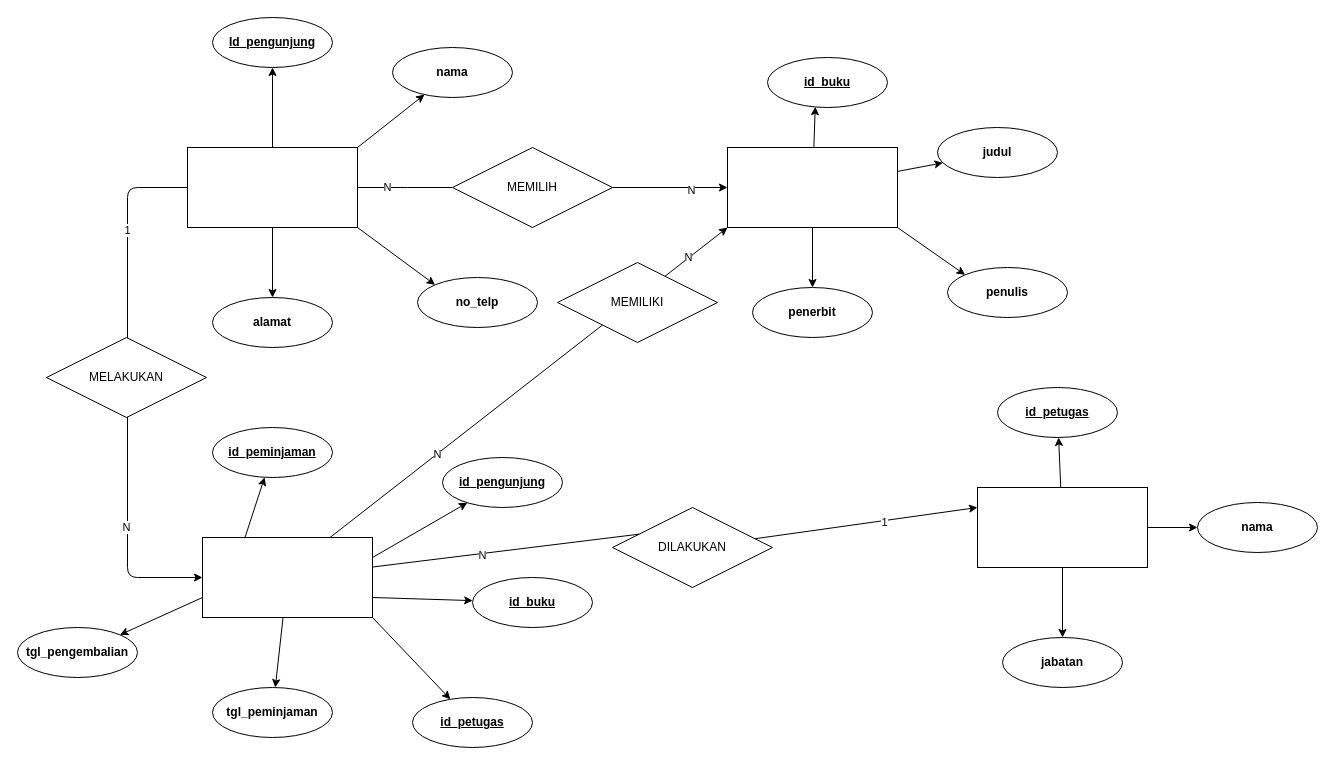
This 1335x765 diagram has some shape labels left out. The centre of each missing label's shape, as x and y in pixels:
BUKU: the point at 812,187
PEMINJAMAN: the point at 287,577
PENGUNJUNG: the point at 272,187
PETUGAS: the point at 1062,527
